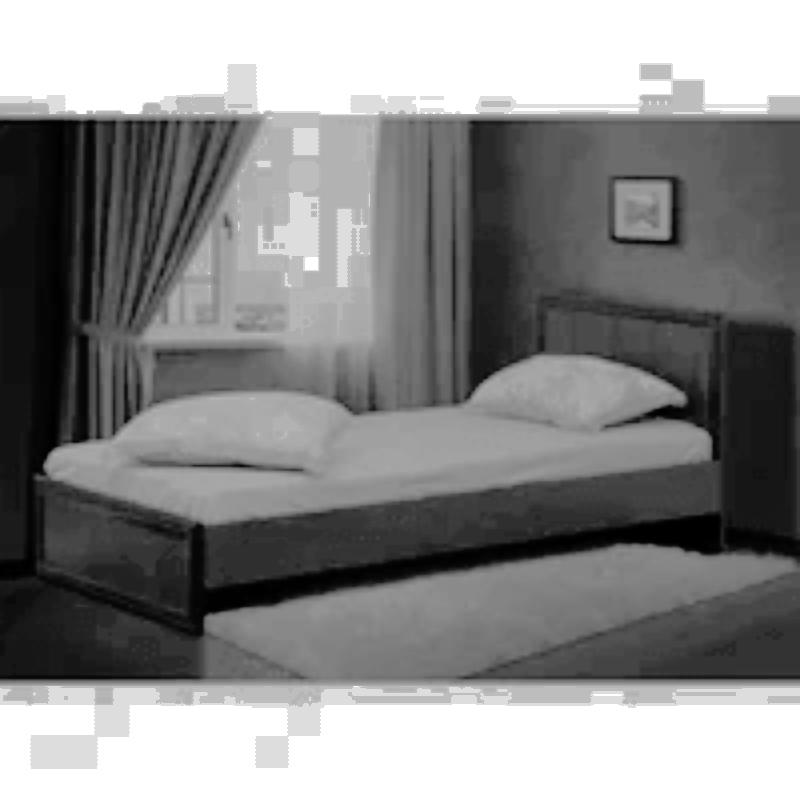pillow: (104, 388, 354, 482), (461, 346, 693, 442)
